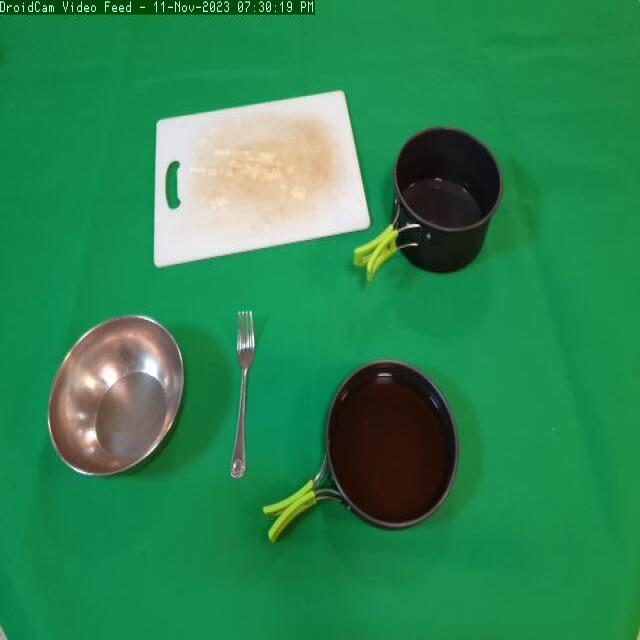bowl: (37, 305, 190, 482)
cutting board: (144, 84, 379, 286)
fork: (219, 301, 271, 488)
fullpan: (260, 345, 470, 551)
pot: (354, 120, 515, 294)
